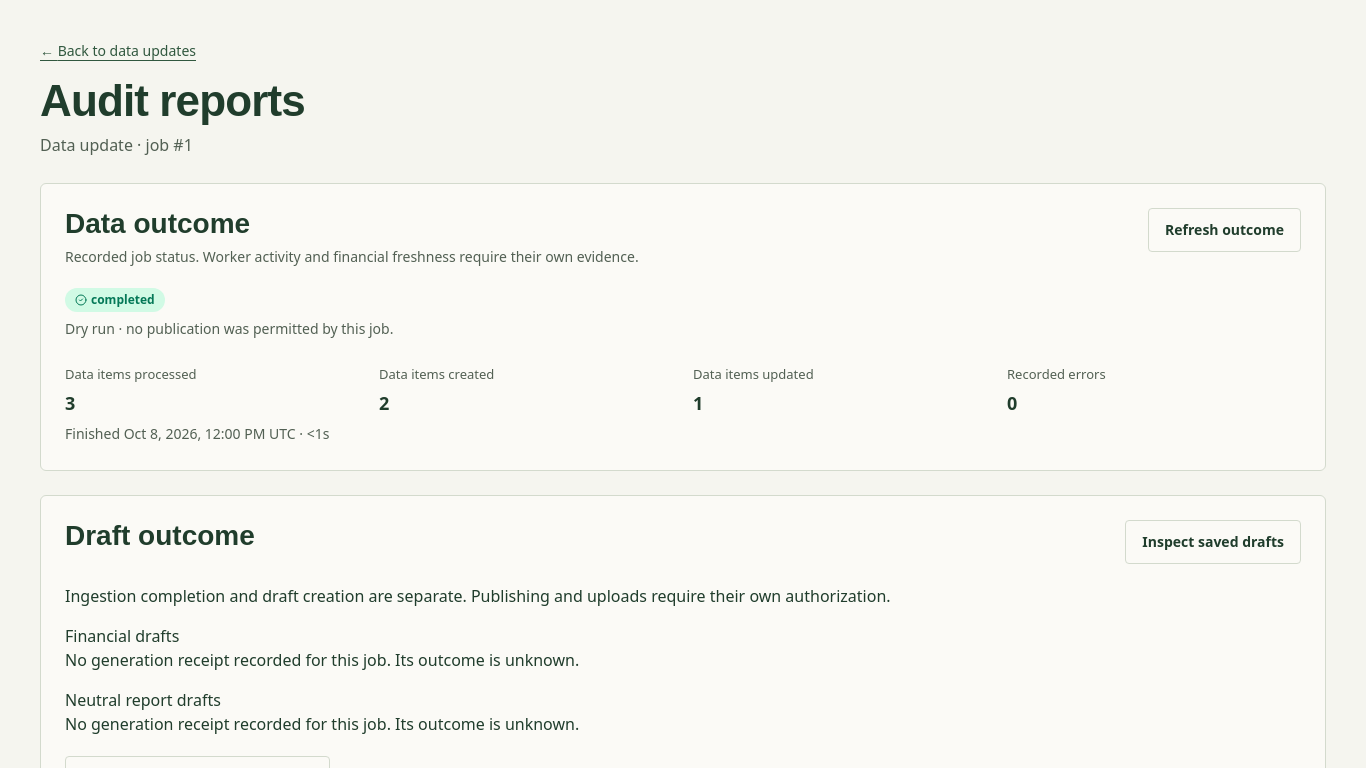
it: detail refresh failures hide old counts and raw error details
Expected: the text "Data update · job #1" is shown, [40,134,193,156]
Click the button "Refresh outcome".
click(1225, 230)  # box [1148,208,1301,252]
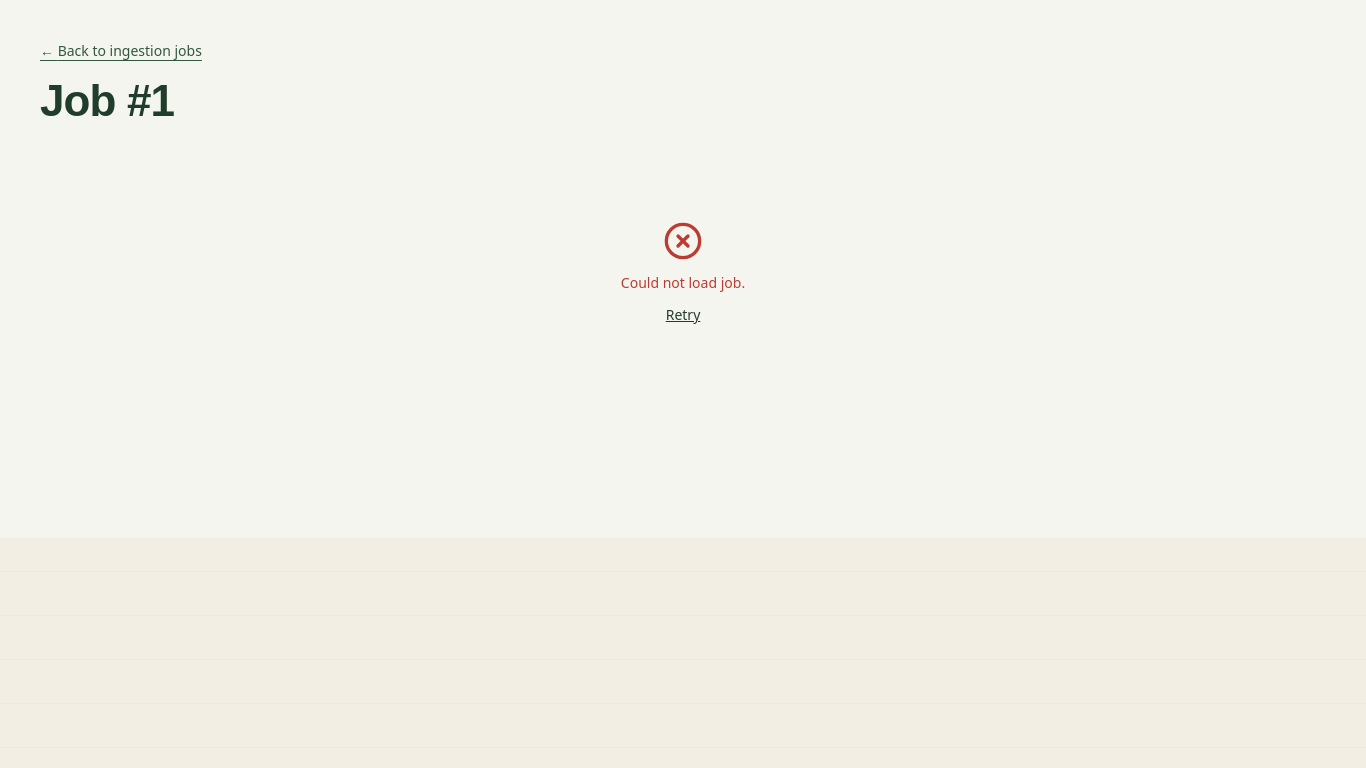
Expected: the text "Could not load job." is shown, [621,273,745,293]
Expected: the text "Data items processed" is gone
